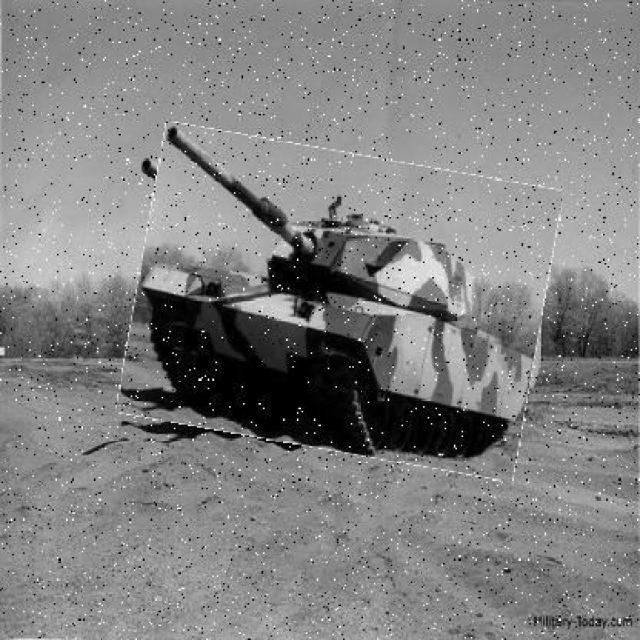Tank: (129, 140, 553, 466)
